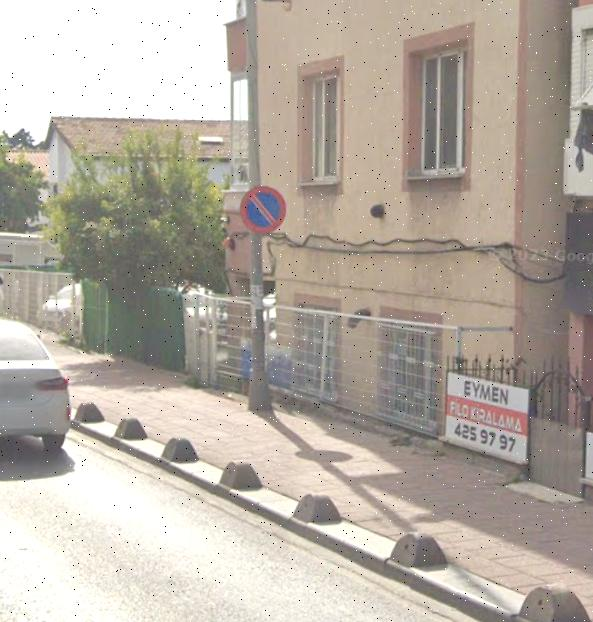nopark: (242, 188, 286, 231)
